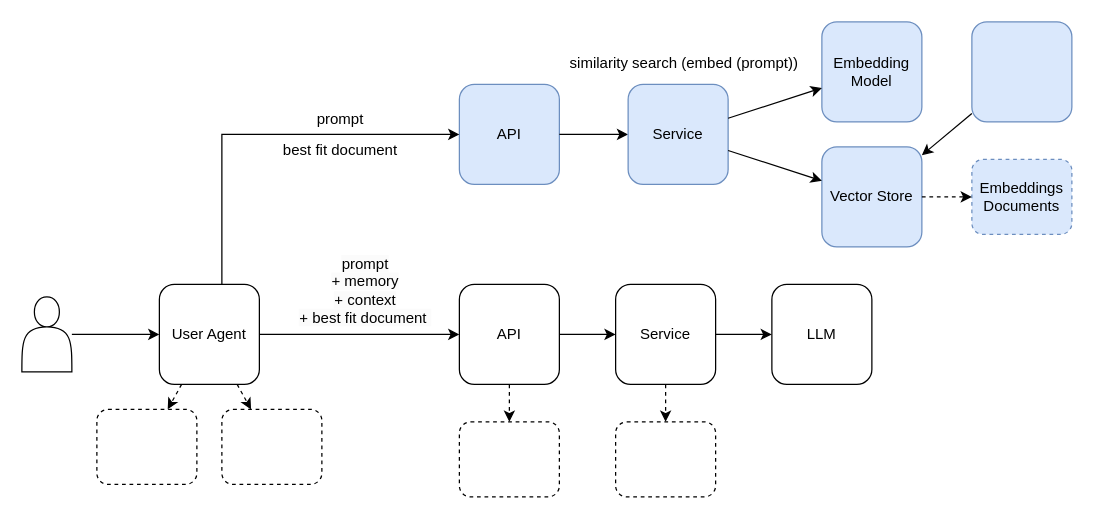
The diagram is 1094 pixels wide and 519 high, and some of its shapes have lost their labels. The shapes that lost their labels are listed below. From the top down, each one's centre as x and y in pixels, then its label:
the point at 1021,71: Async Process
the point at 146,446: Context
the point at 271,446: Memory
the point at 508,459: Auth
the point at 665,459: Quality
